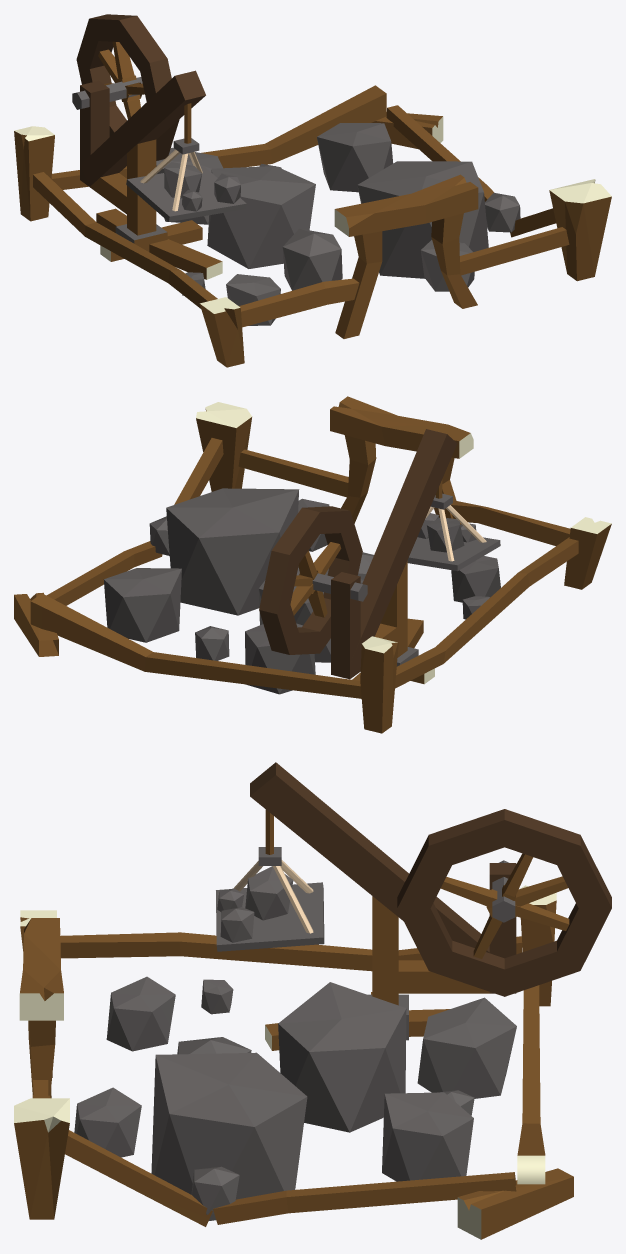
The model's file is Stone_storage_4.fbx.
3 views of the same model, one above another, from view 1: azimuth 30°, elevation 25°; view 2: azimuth 150°, elevation 25°; view 3: azimuth 270°, elevation 25° (orthographic). The views are drawn at different scales.
Parts seen in each view (by area): view 1: Cube.011; view 2: Cube.011; view 3: Cube.011.
Part boxes in pixels (bbox=[...]): Cube.011: bbox=[14, 14, 611, 367]; Cube.011: bbox=[14, 396, 611, 733]; Cube.011: bbox=[14, 762, 611, 1239].
Size of the model in its own units: 6 by 6 by 3.15.
